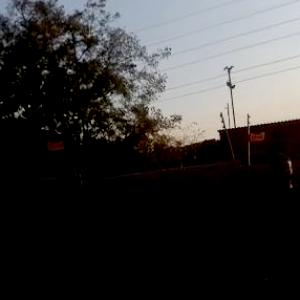follow: (257, 146, 300, 299)
